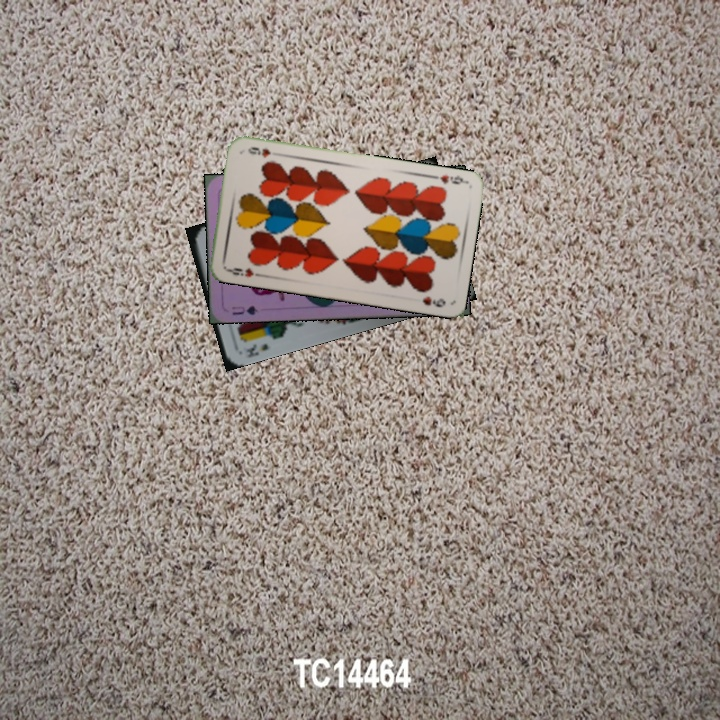EK: (242, 339, 271, 360)
GU: (228, 301, 260, 317)
H9: (223, 264, 263, 279), (436, 171, 469, 187)
